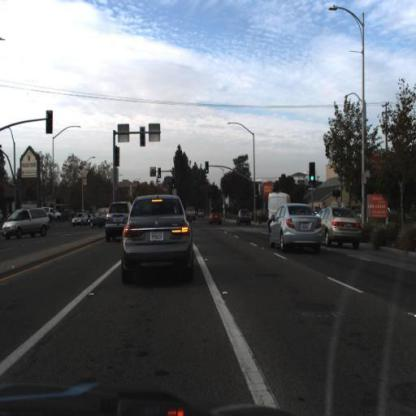car: (123, 196, 196, 278), (272, 197, 331, 259), (317, 204, 366, 255), (315, 206, 364, 250), (3, 209, 50, 238), (105, 202, 135, 242), (106, 202, 133, 238), (87, 204, 111, 229), (207, 206, 226, 227), (207, 209, 225, 229), (186, 199, 198, 222), (185, 206, 198, 224), (237, 209, 251, 225), (73, 212, 87, 225), (126, 204, 134, 224), (107, 209, 114, 221)
trafficLight: (47, 108, 55, 134), (113, 145, 121, 168), (139, 127, 147, 147)
trafficLight-Green: (204, 160, 212, 176), (309, 163, 315, 183), (171, 177, 177, 191), (158, 168, 163, 178)
truck: (268, 192, 295, 232), (268, 191, 291, 232)
